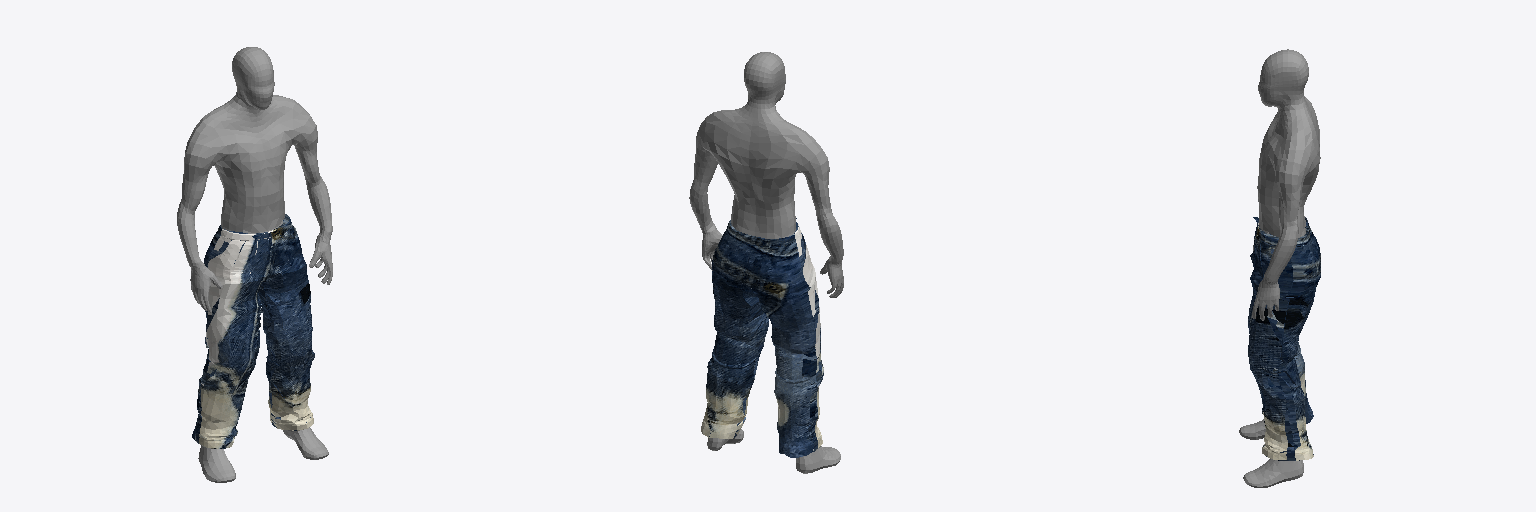
The picture shows the model from 3 angles: view 1: azimuth 30°, elevation 25°; view 2: azimuth 150°, elevation 25°; view 3: azimuth 270°, elevation 25°; orthographic projection.
Visible parts, largest first — view 1: Human_BaseMesh_Mesh, Object60.004; view 2: Object60.004, Human_BaseMesh_Mesh; view 3: Human_BaseMesh_Mesh, Object60.004.
Boxes of the visible parts, x1,y1,x2,y2 form: Human_BaseMesh_Mesh: [177, 47, 332, 482]; Object60.004: [192, 214, 314, 448]; Object60.004: [701, 218, 823, 457]; Human_BaseMesh_Mesh: [689, 52, 843, 473]; Human_BaseMesh_Mesh: [1239, 49, 1320, 487]; Object60.004: [1248, 217, 1320, 460].
Size of the model in its own units: 6.14 by 16.22 by 2.95.
Materials: 3 (1 with a texture image).